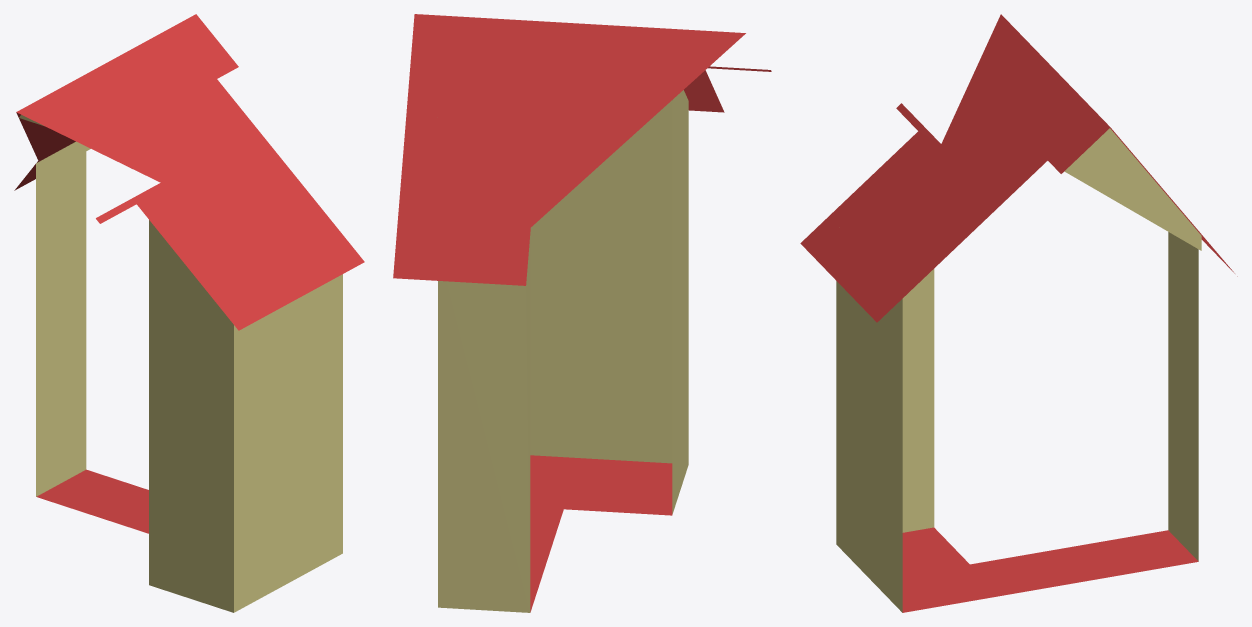
3 views of the same model, side by side, from view 1: azimuth 30°, elevation 25°; view 2: azimuth 150°, elevation 25°; view 3: azimuth 270°, elevation 25° (orthographic). The views are drawn at different scales.
Size of the model in its own units: 8.86 by 11.91 by 13.99.
